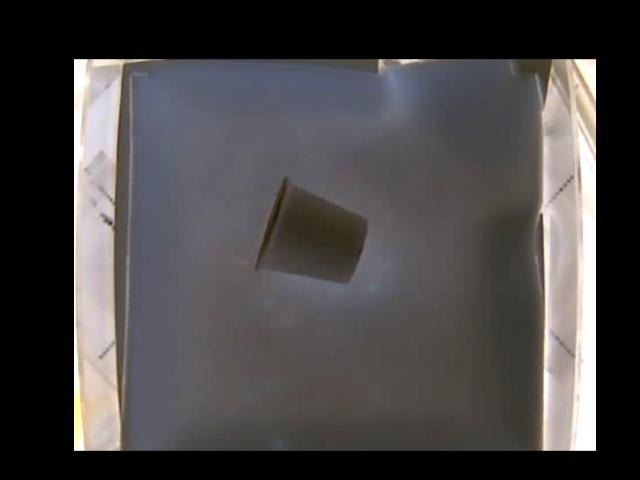Cup: (256, 176, 370, 283)
